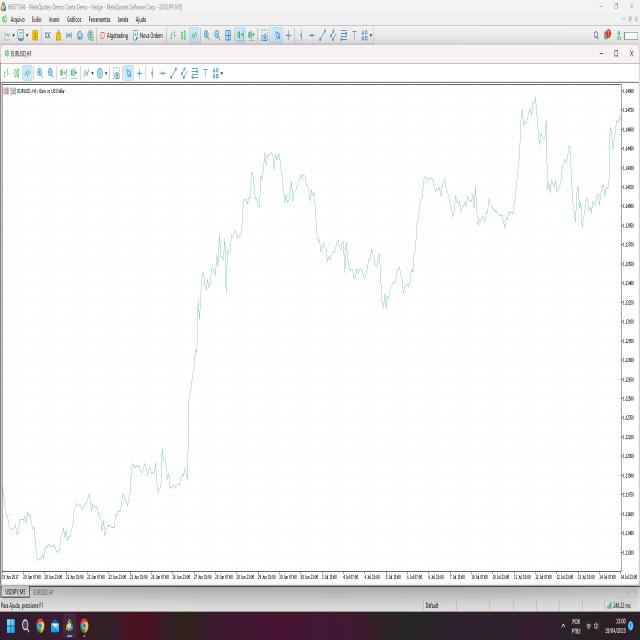bandeira_alta: (178, 220, 228, 489), (412, 162, 462, 308)
oco: (236, 140, 323, 279)
